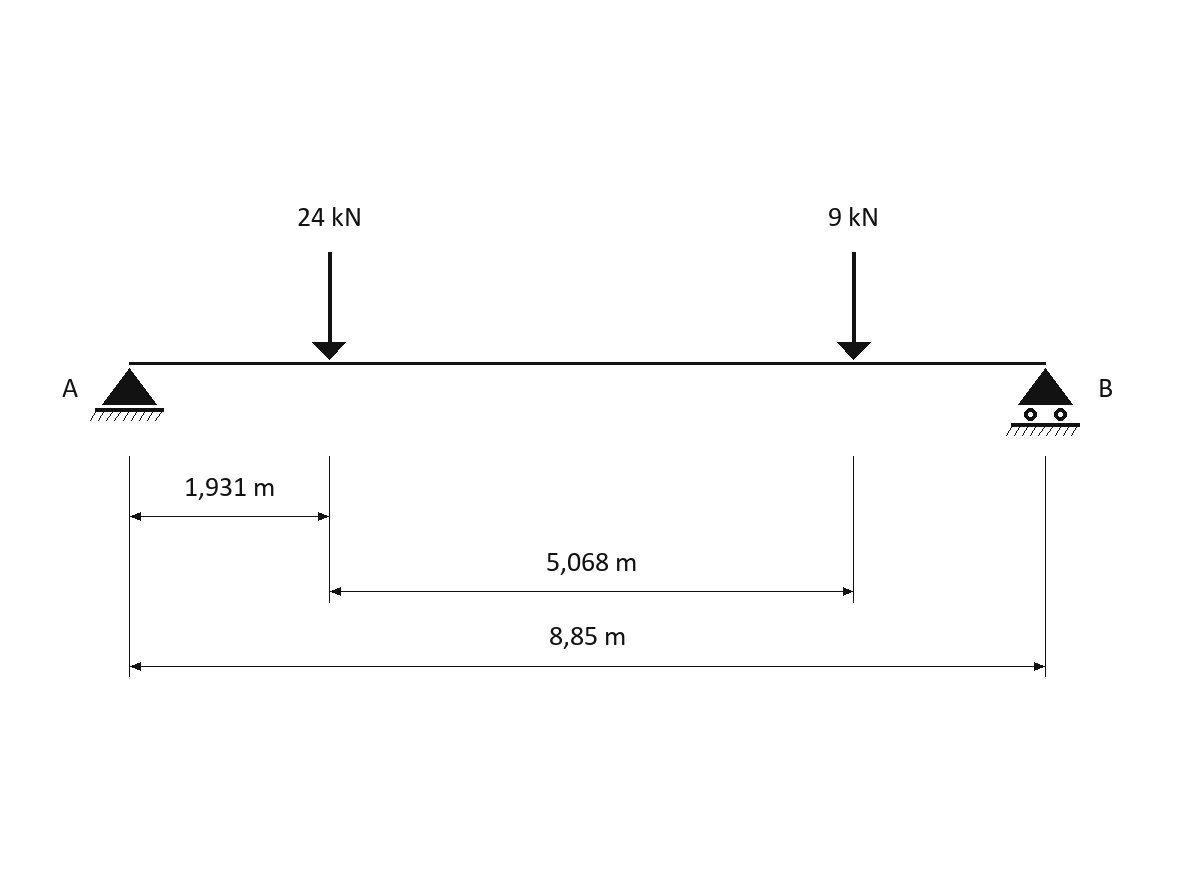pin_support: (90, 368, 164, 421)
point_load: (312, 252, 346, 360), (837, 252, 871, 360)
roller_support: (1006, 368, 1080, 436)
